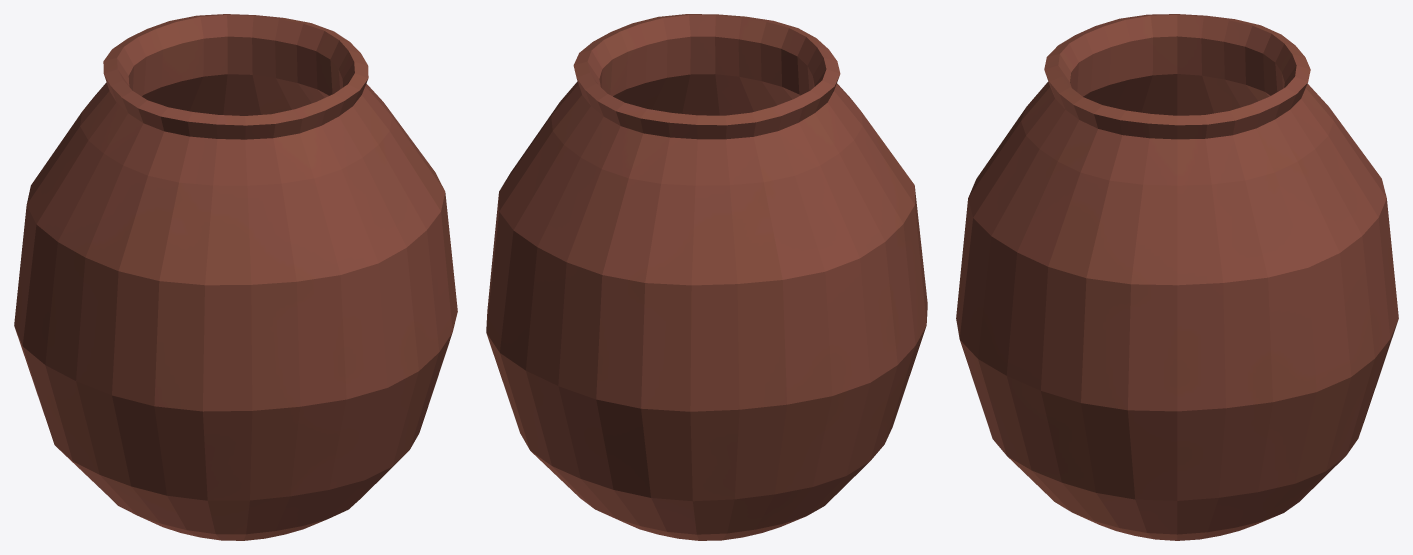
Rendered from PR_ClayJar.glb.
The picture shows the model from 3 angles, left to right: view 1: azimuth 30°, elevation 25°; view 2: azimuth 150°, elevation 25°; view 3: azimuth 270°, elevation 25°; orthographic projection.
Parts seen in each view (by area): view 1: PR_ClayJar; view 2: PR_ClayJar; view 3: PR_ClayJar.
Boxes of the visible parts, x1,y1,x2,y2 form: PR_ClayJar: [14, 14, 457, 540]; PR_ClayJar: [486, 14, 927, 540]; PR_ClayJar: [956, 14, 1398, 540].
Bounding box in the file's own units: 0.5585 × 0.606 × 0.5615.
Materials: 1 (1 with a texture image).
